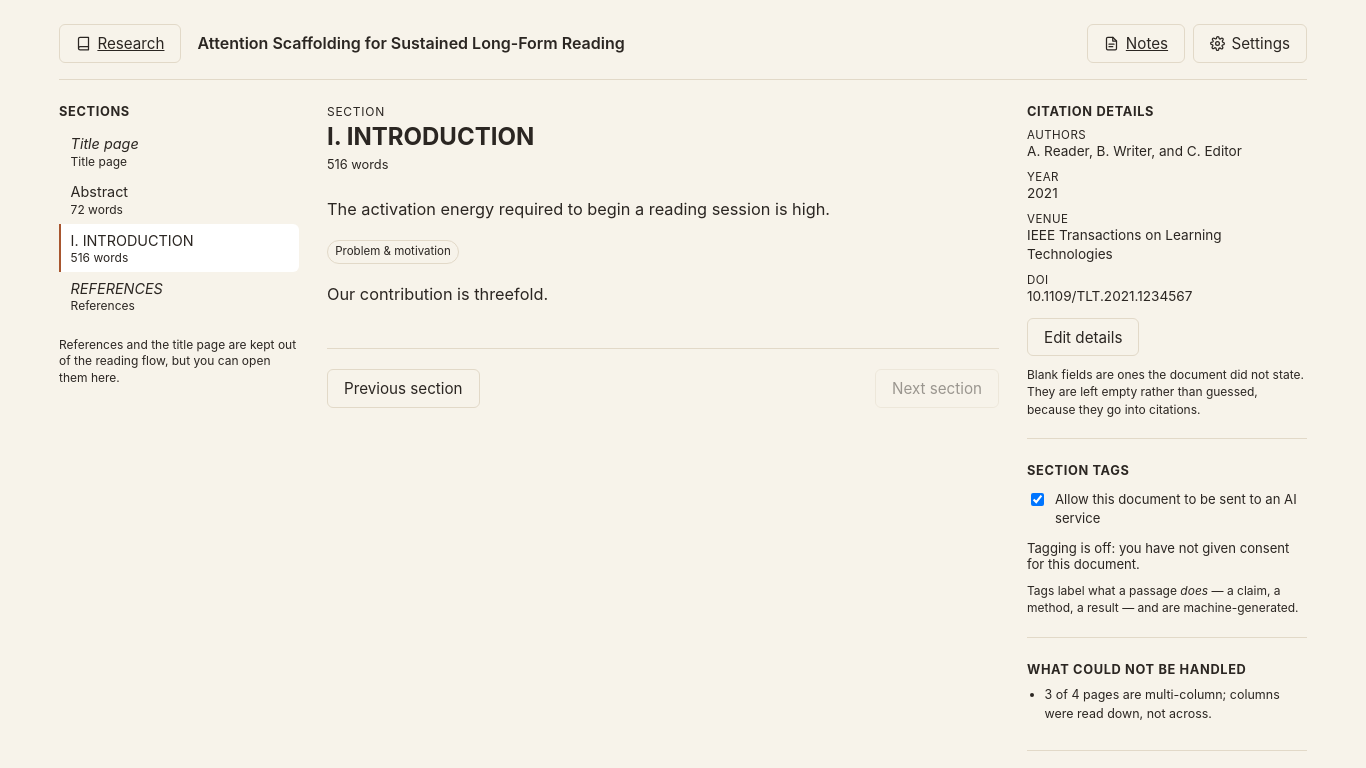
Test: tagging controls › says plainly that withdrawing consent deleted the tags
Expected: the heading "I. INTRODUCTION" is shown, [327,122,534,151]
Step 1. Click the checkbox labelled "Allow this document to be sent to an AI service" → (1038, 500), box [1031,493,1044,506]
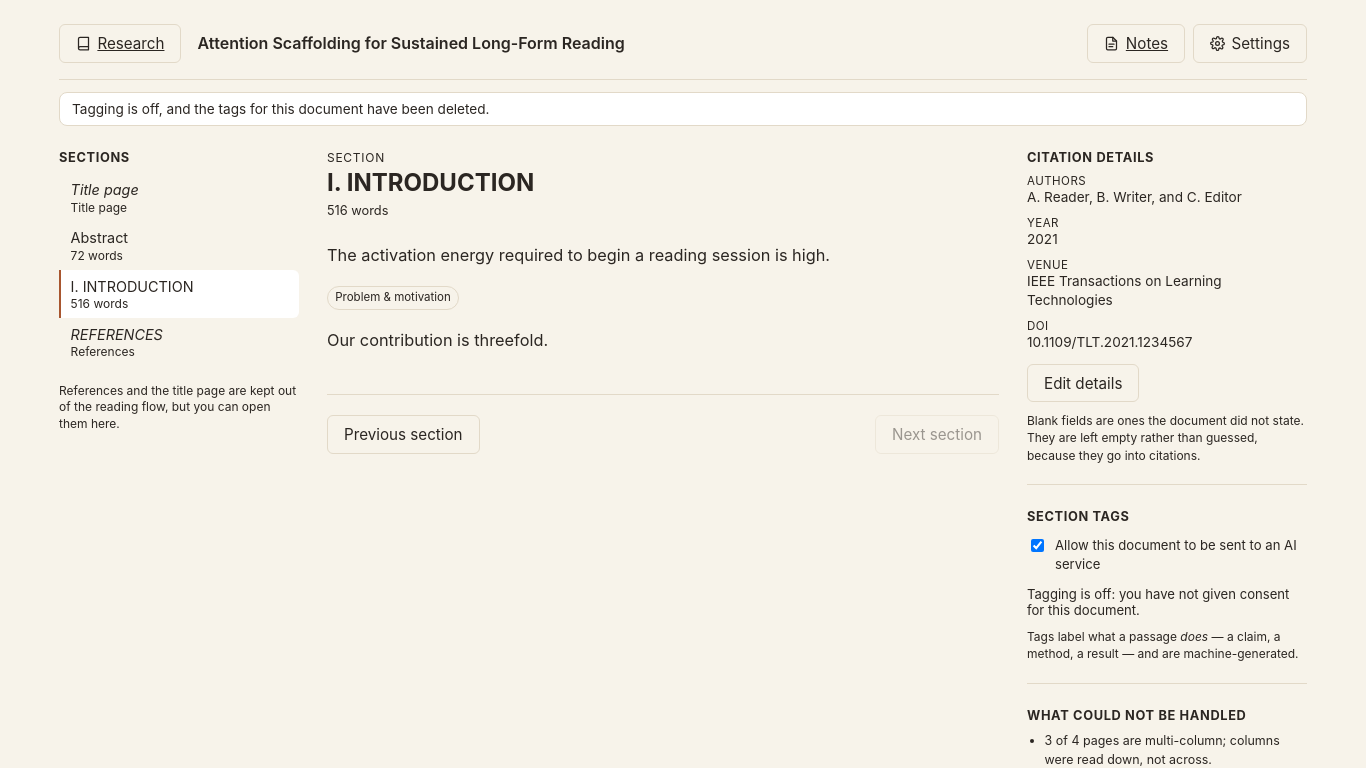
Expected: the text "Tagging is off, and the tags for this document have been deleted." is shown, [59,92,1307,126]
